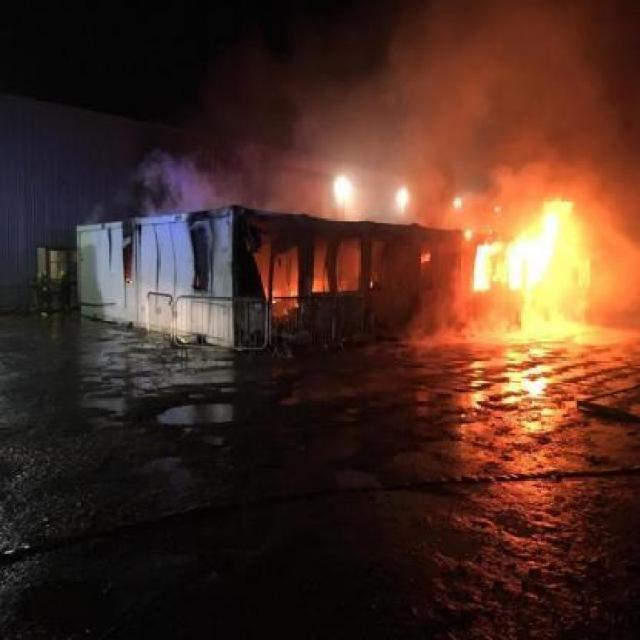Fire: (440, 184, 617, 330)
Smoke: (252, 3, 625, 222), (110, 134, 216, 232)
